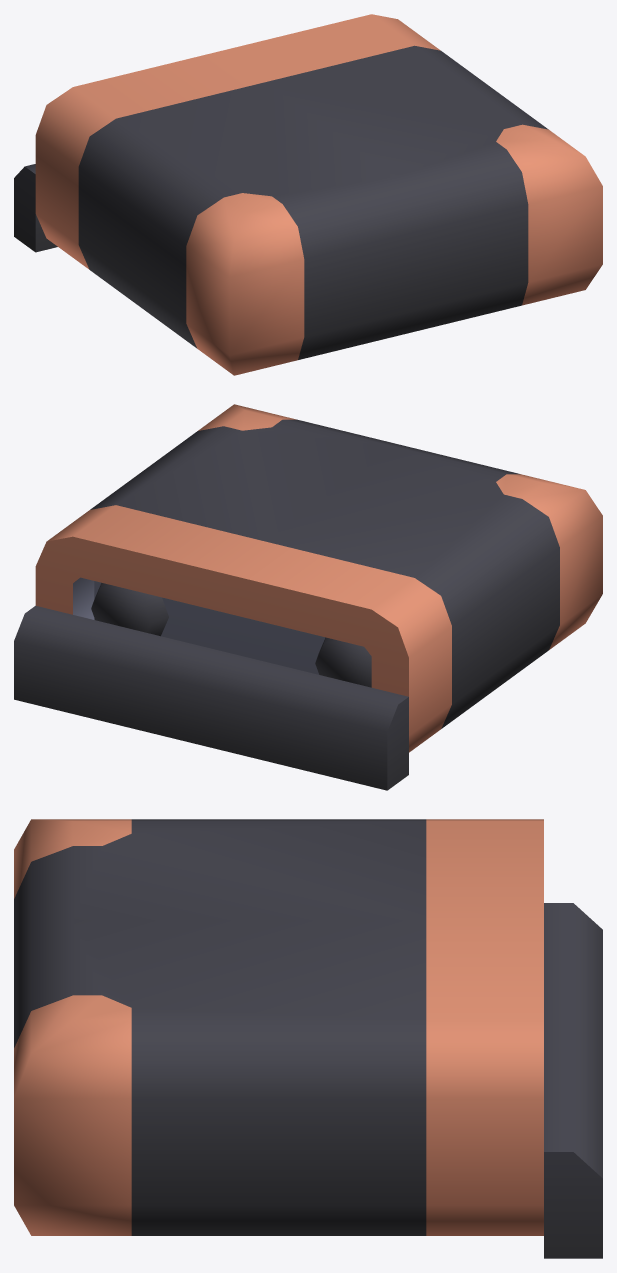
File: conveyor-stripe-sides-junction-t.obj
3 views of the same model, one above another, from view 1: azimuth 30°, elevation 25°; view 2: azimuth 150°, elevation 25°; view 3: azimuth 270°, elevation 25° (orthographic). The views are drawn at different scales.
Parts seen in each view (by area): view 1: conveyor-stripe-sides-junction-t; view 2: conveyor-stripe-sides-junction-t; view 3: conveyor-stripe-sides-junction-t.
Boxes of the visible parts, x1,y1,x2,y2 form: conveyor-stripe-sides-junction-t: [14, 14, 602, 375]; conveyor-stripe-sides-junction-t: [14, 404, 602, 790]; conveyor-stripe-sides-junction-t: [14, 819, 602, 1258].
Bounding box in the file's own units: 1 × 0.4 × 1.
